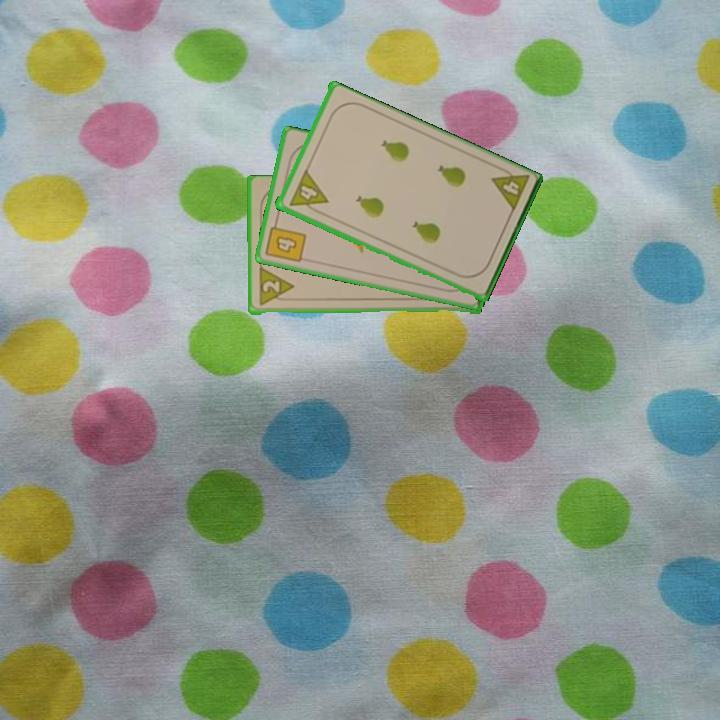2p: (255, 266, 296, 309)
4b: (262, 216, 309, 266)
4p: (487, 162, 532, 216), (285, 167, 330, 218)
